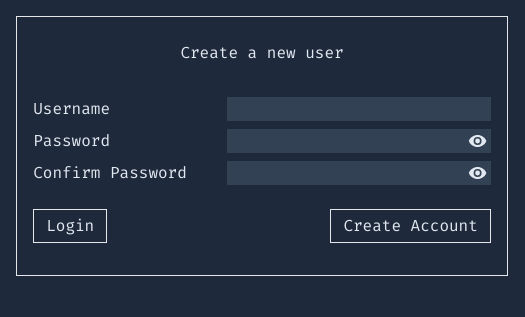
Test: CreateUser › render submission errors when... › the form request response is not OK
The image size is (525, 317).
Fill in the form
In the field named "username-input": (359, 109) x1=227 y1=97 x2=491 y2=121, type "james"
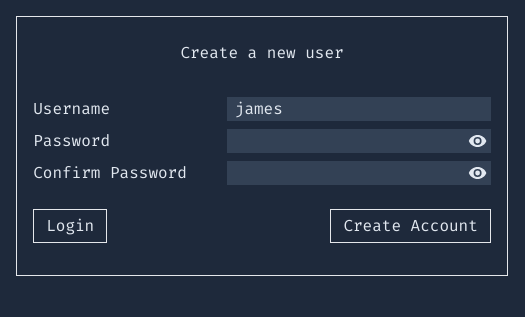
In the password field named "password-input": (359, 141) x1=227 y1=129 x2=491 y2=153, type "123456"
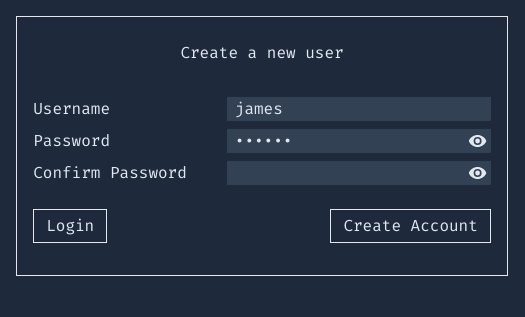
In the password field named "confirmPassword-input": (359, 173) x1=227 y1=161 x2=491 y2=185, type "123456"
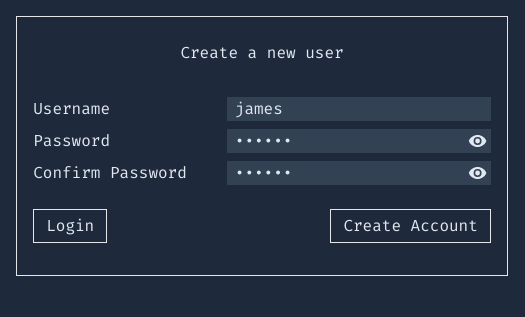
Submit the form
Click the button "Create Account": (411, 226) x1=330 y1=209 x2=491 y2=243
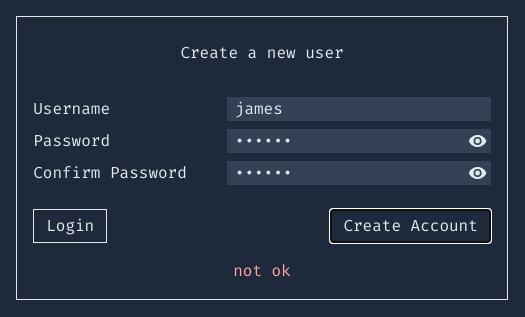
Check: the text "not ok" is shown, box x1=233 y1=260 x2=291 y2=281
